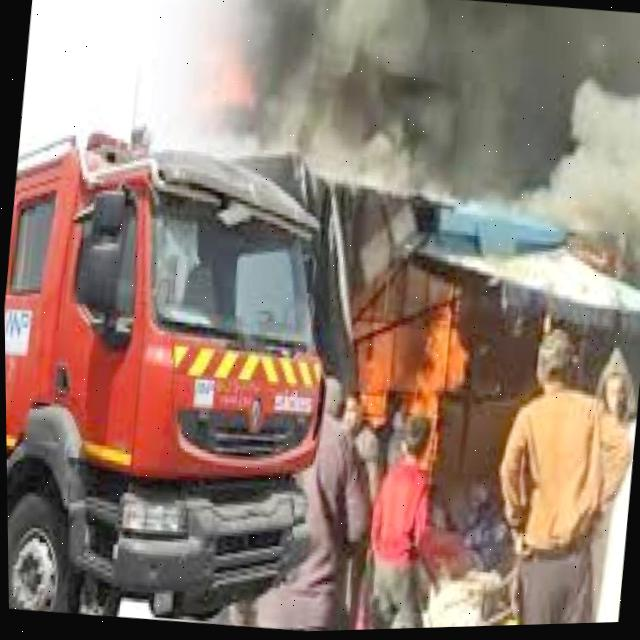emergency: (1, 116, 345, 638)
